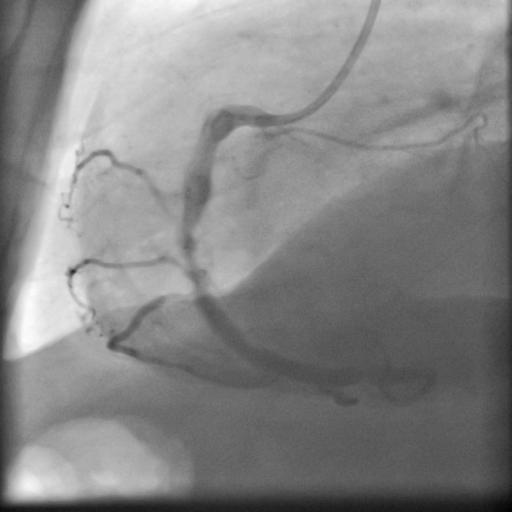Stenosis: (178, 233, 205, 286)
